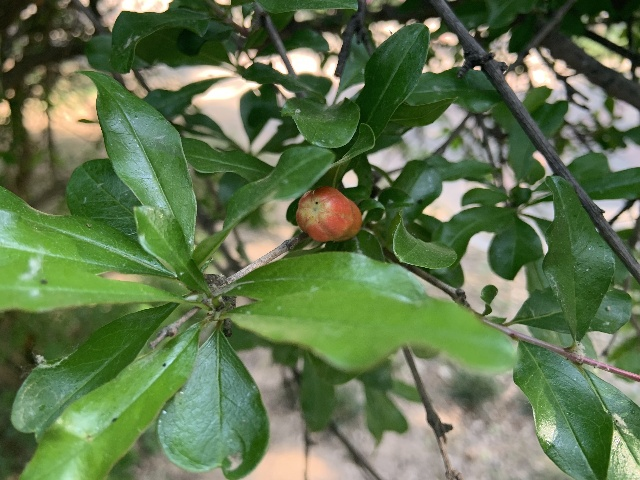bud: (296, 185, 361, 242)
